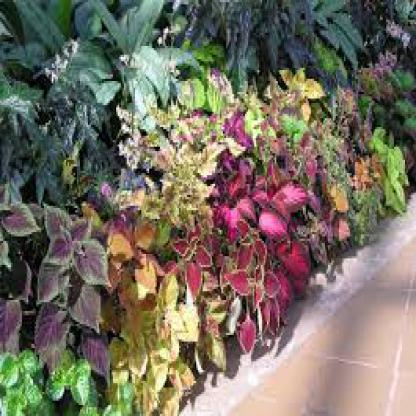Bunga Coleus: (176, 100, 380, 303), (3, 211, 179, 404)
